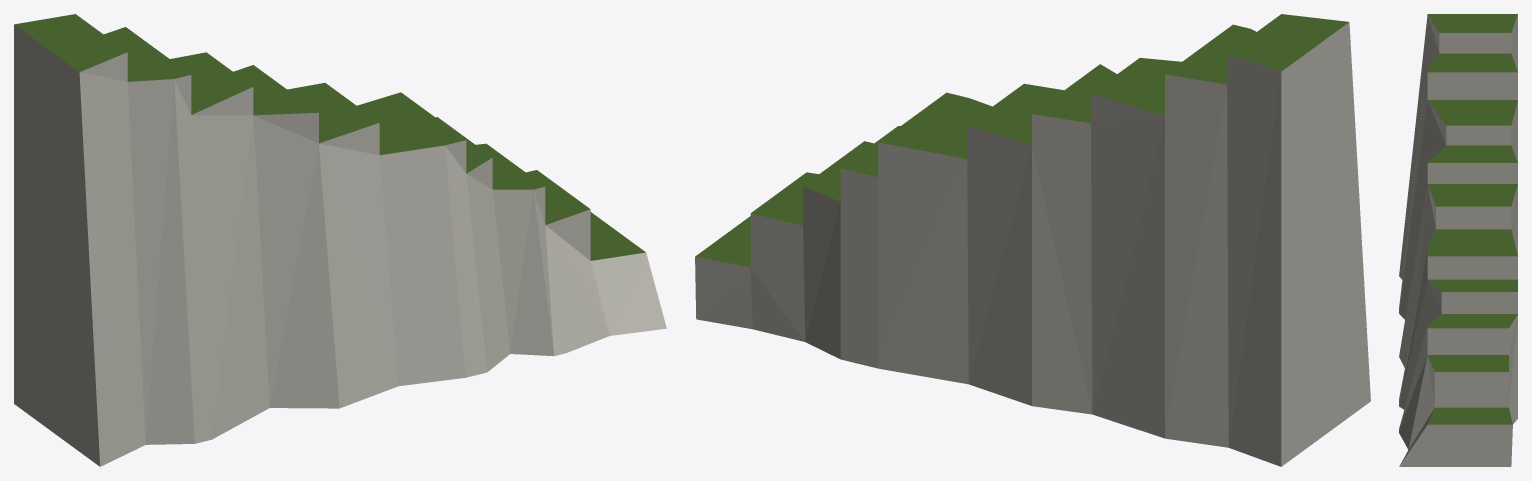
Rendered from Terrain_Modular_Tiles_Grass_Rock_Stairs_02.fbx.
The picture shows the model from 3 angles, left to right: view 1: azimuth 30°, elevation 25°; view 2: azimuth 150°, elevation 25°; view 3: azimuth 270°, elevation 25°; orthographic projection. The views are drawn at different scales.
Visible parts, largest first — view 1: Terrain_Modular_Tiles_Grass_Rock_Stairs_02; view 2: Terrain_Modular_Tiles_Grass_Rock_Stairs_02; view 3: Terrain_Modular_Tiles_Grass_Rock_Stairs_02.
Boxes of the visible parts, x1,y1,x2,y2 form: Terrain_Modular_Tiles_Grass_Rock_Stairs_02: (14,14,666,466); Terrain_Modular_Tiles_Grass_Rock_Stairs_02: (695,14,1370,466); Terrain_Modular_Tiles_Grass_Rock_Stairs_02: (1399,14,1517,466).
Size of the model in its own units: 3750 by 2400 by 987.
